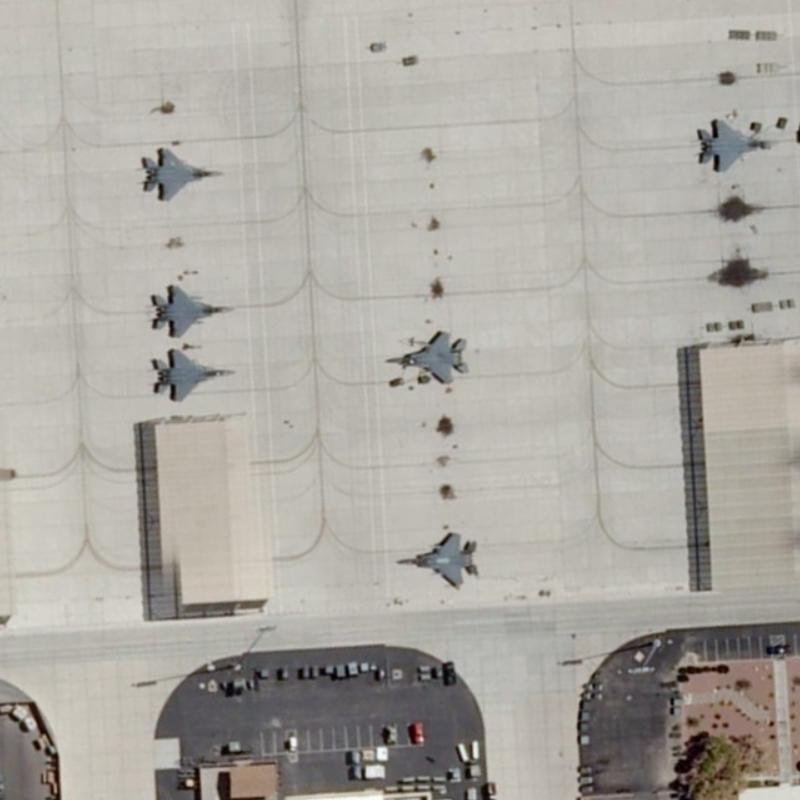A5: (377, 321, 474, 389), (690, 109, 785, 176), (390, 523, 481, 592), (140, 342, 240, 404), (142, 280, 236, 344), (138, 140, 226, 206)
